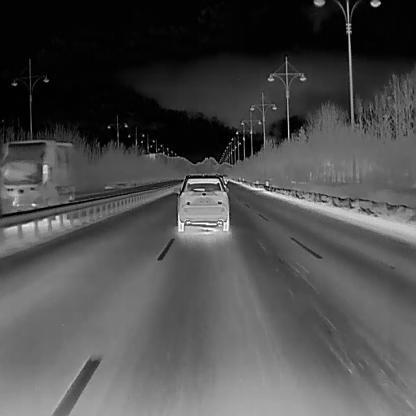car: (0, 139, 73, 225), (172, 172, 229, 233), (221, 175, 227, 182)
